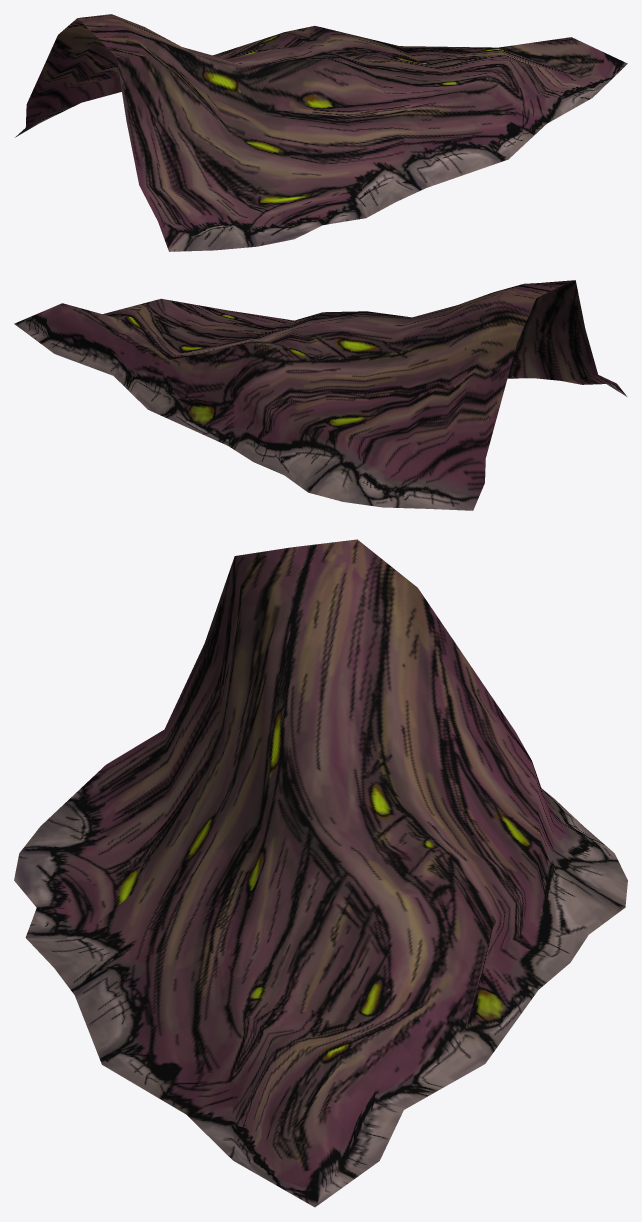
The model's file is CosmicGoo_Mound_Young.fbx.
3 views of the same model, one above another, from view 1: azimuth 30°, elevation 25°; view 2: azimuth 150°, elevation 25°; view 3: azimuth 270°, elevation 25° (orthographic). The views are drawn at different scales.
Parts seen in each view (by area): view 1: GooMound_young; view 2: GooMound_young; view 3: GooMound_young.
Boxes of the visible parts, x1=… form: GooMound_young: x1=15, y1=14, x2=627, y2=251; GooMound_young: x1=14, y1=280, x2=627, y2=510; GooMound_young: x1=14, y1=539, x2=627, y2=1207.
Size of the model in its own units: 22.69 by 6.73 by 14.41.
